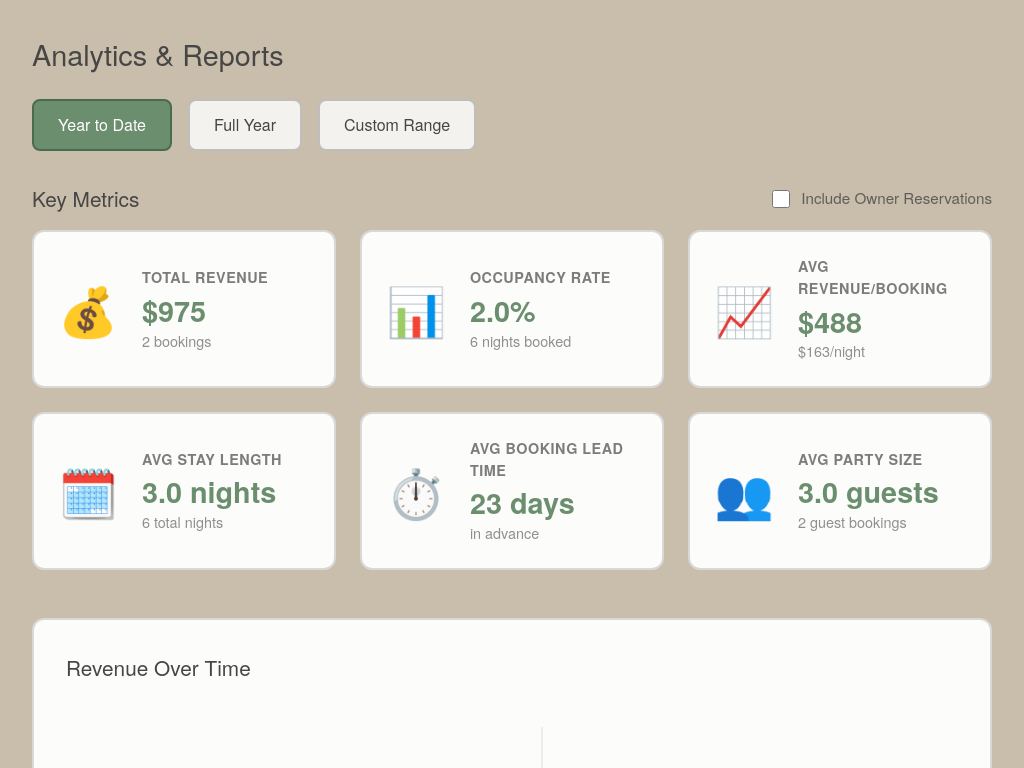
Scenario: Reports › switches to custom range and shows date inputs
Click the button "Custom Range" at (397, 125), box [318,99,476,151]
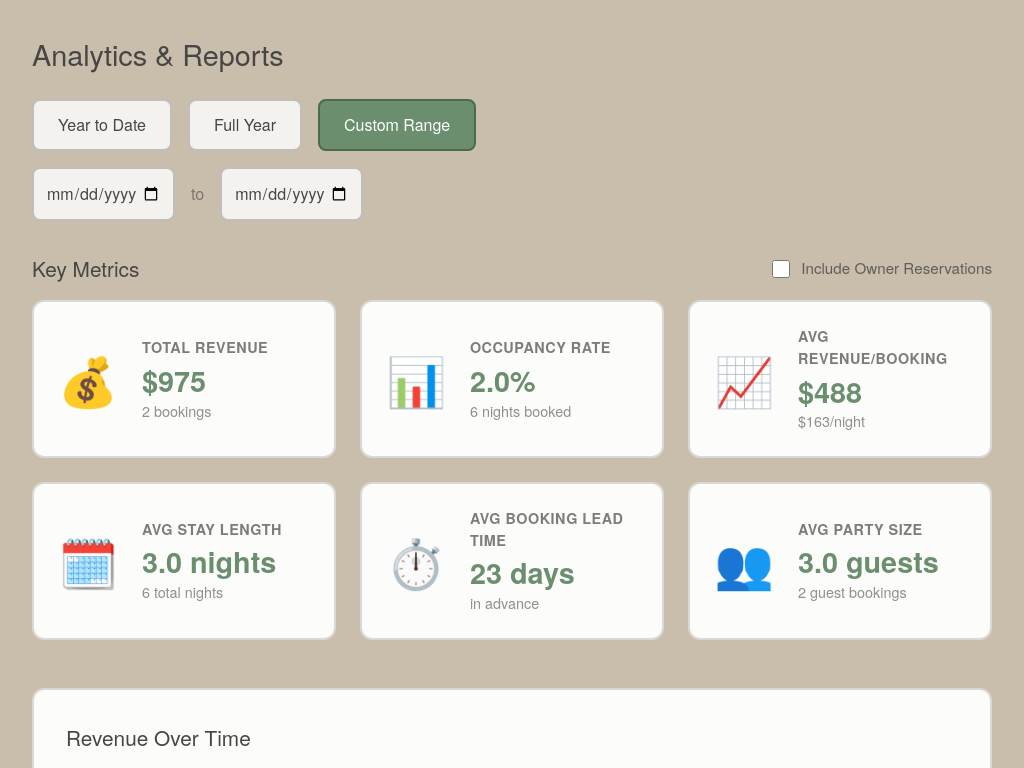
Now the date field with placeholder "Start date" is shown, box [32,167,175,221]
